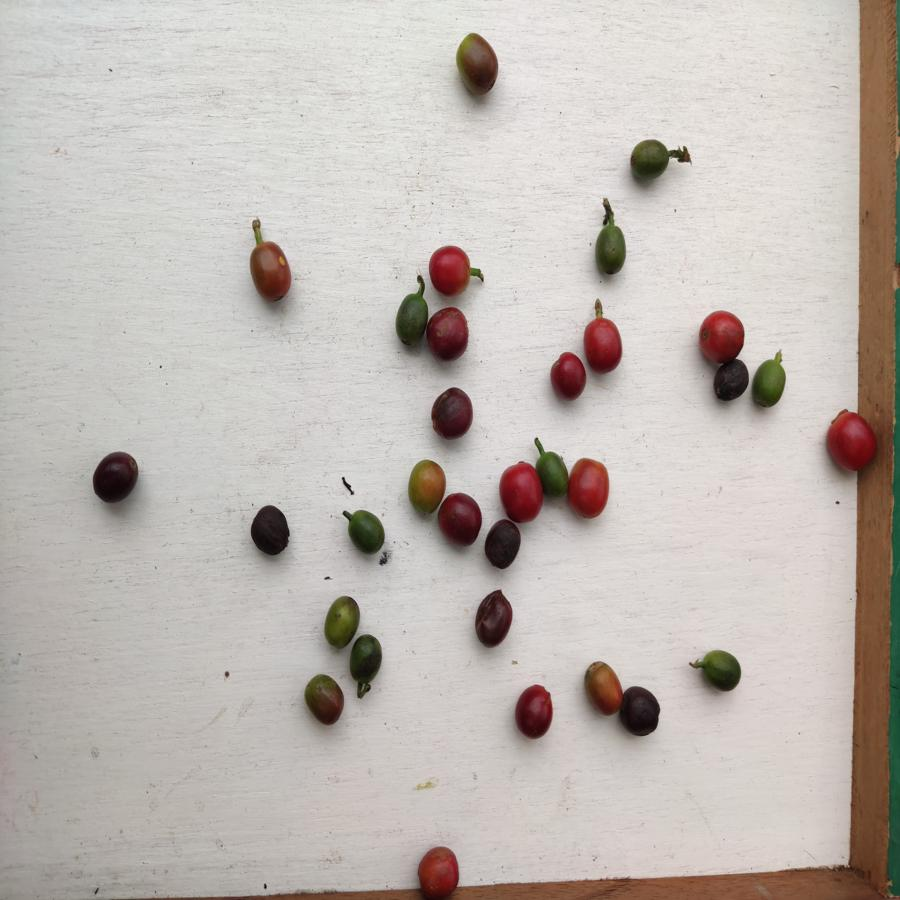Inmaduro: (695, 649, 746, 698), (341, 509, 390, 558), (590, 222, 631, 277), (749, 353, 789, 408), (392, 290, 427, 347), (347, 633, 385, 684), (627, 139, 673, 180), (535, 450, 571, 502)
Maduro: (825, 409, 874, 472), (427, 242, 477, 298), (568, 456, 610, 520), (697, 309, 746, 357), (500, 460, 540, 517), (584, 319, 627, 372), (548, 351, 588, 401)
Pinton: (243, 237, 299, 308), (581, 658, 625, 722), (456, 30, 496, 96), (300, 671, 346, 727), (416, 846, 463, 897), (405, 458, 445, 515), (324, 596, 359, 645)
Sobremaduro: (93, 450, 143, 510), (425, 307, 473, 364), (429, 388, 478, 440), (437, 492, 484, 545), (473, 588, 514, 646), (250, 504, 292, 557), (619, 686, 661, 738), (516, 682, 553, 739), (484, 520, 522, 568), (711, 359, 748, 405)
